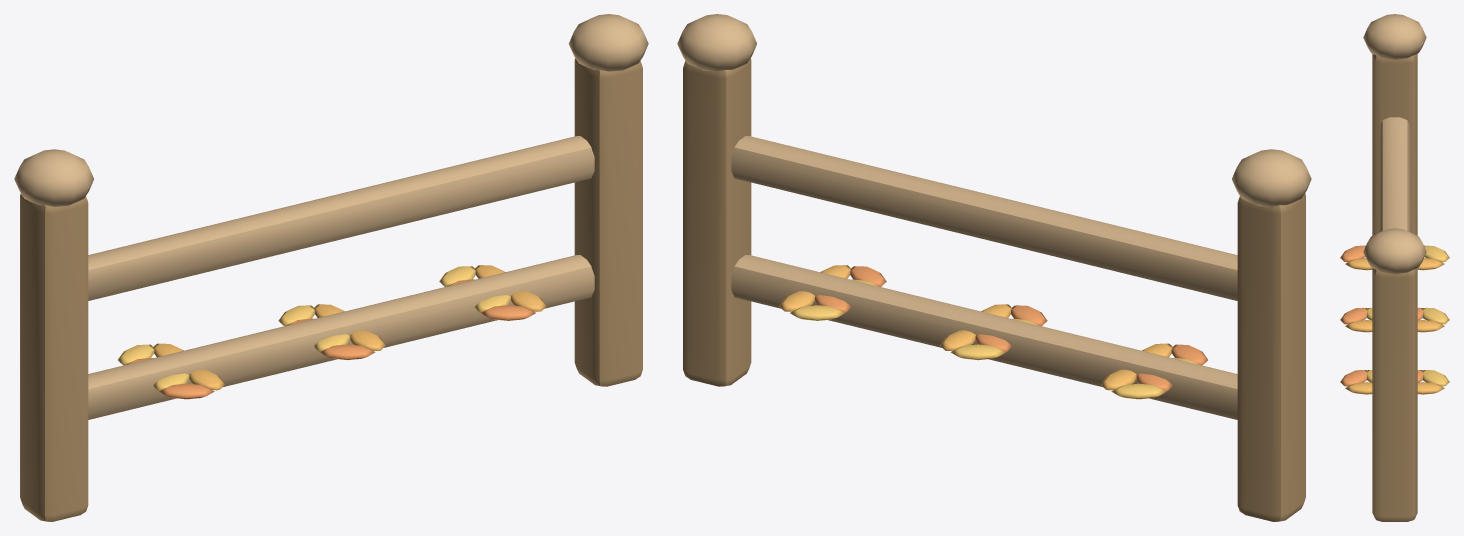
File: fence_autumn_v1.glb
3 renders of one model, left to right at view 1: azimuth 30°, elevation 25°; view 2: azimuth 150°, elevation 25°; view 3: azimuth 270°, elevation 25°, orthographic. The views are drawn at different scales.
Size of the model in its own units: 2.25 by 1.23 by 0.4328.
